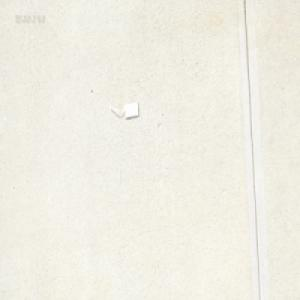LuggageTag: (108, 100, 140, 118)
